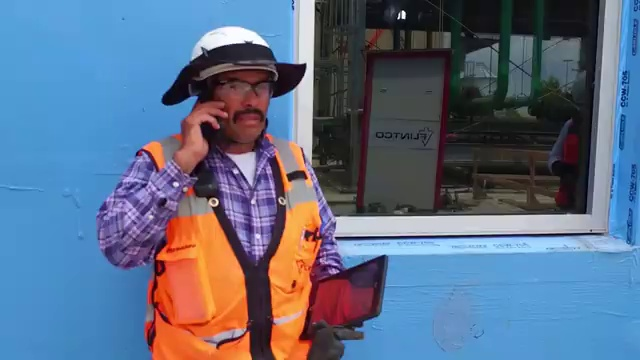helmet: (177, 26, 299, 95)
jacket: (114, 126, 338, 360)
